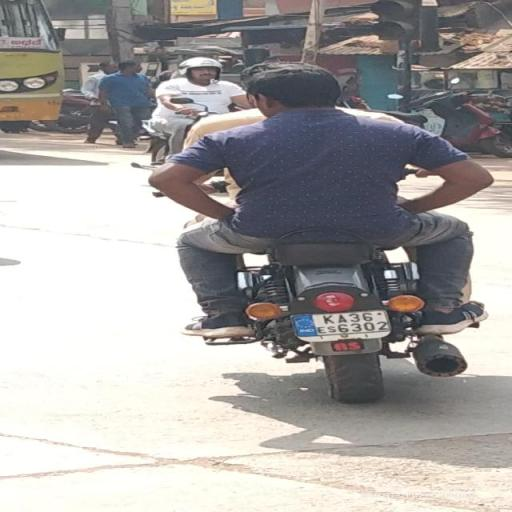bike: (145, 57, 491, 410)
numberplate: (292, 304, 388, 342)
withouthelmet: (243, 58, 332, 112)
